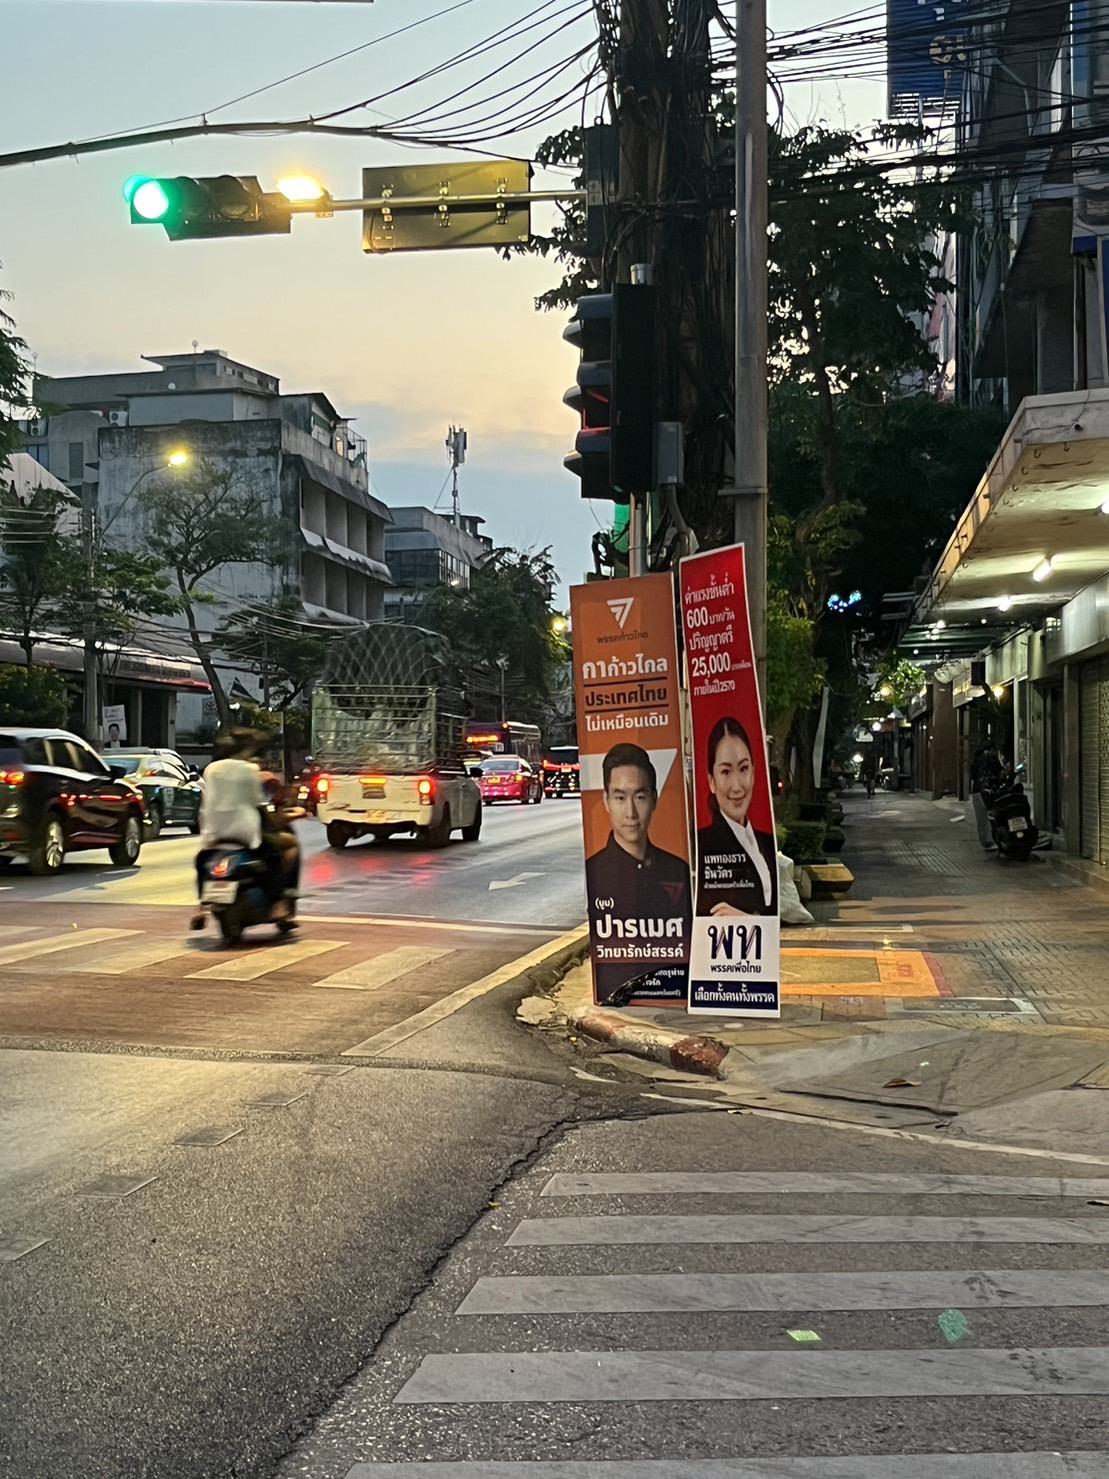Banner: (672, 547, 817, 1022), (552, 574, 695, 988)
